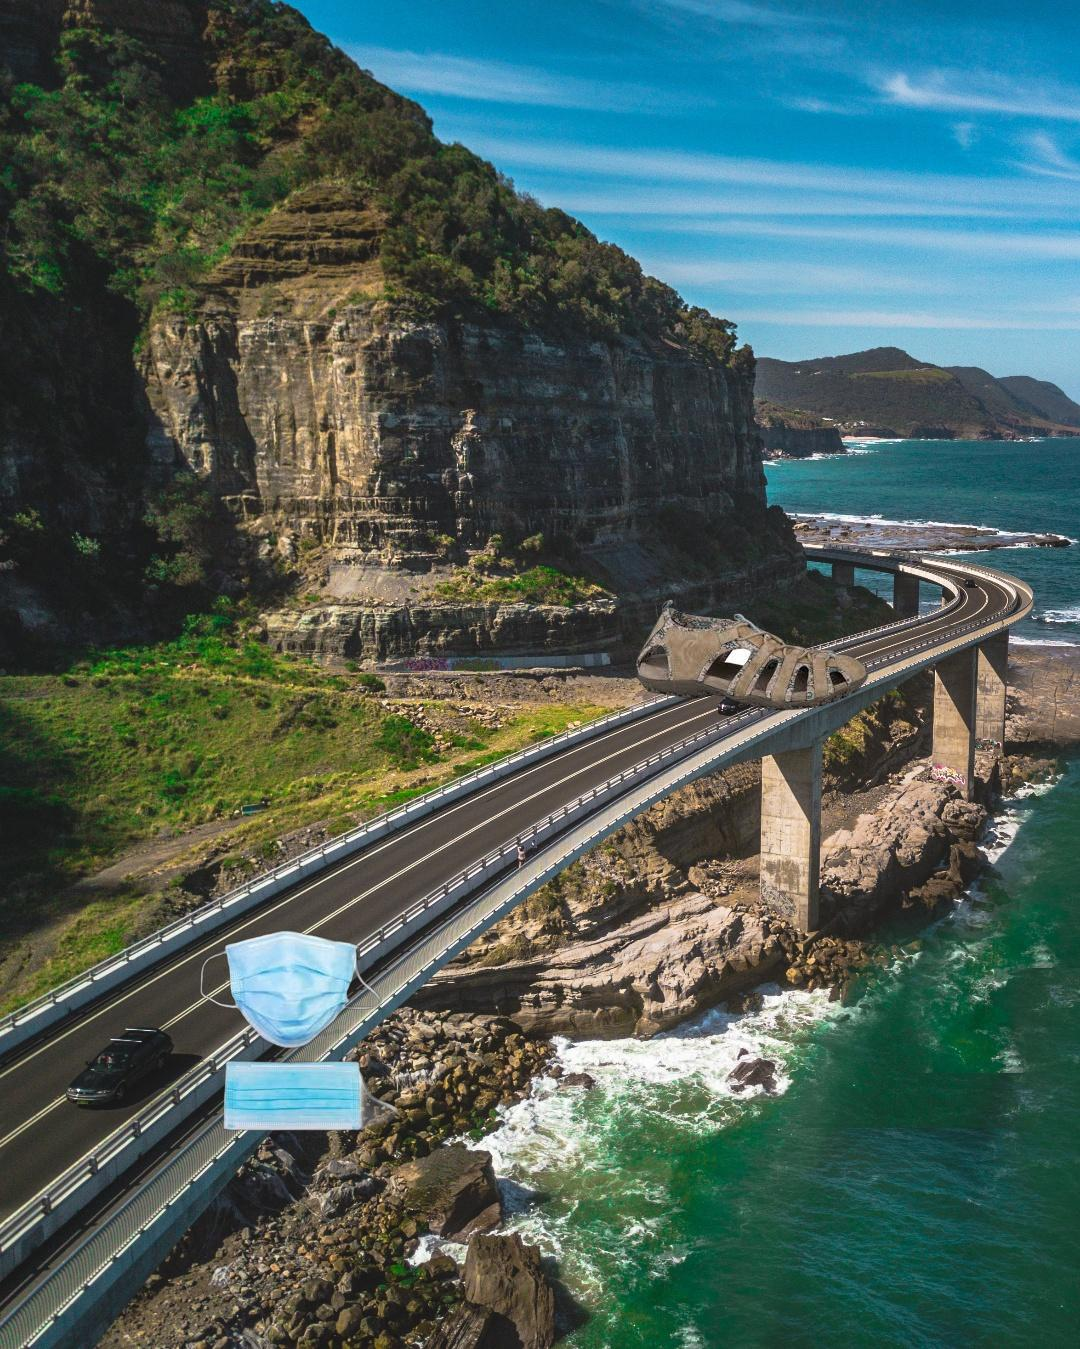shoes: (633, 597, 871, 713)
trash: (191, 928, 400, 1151)
